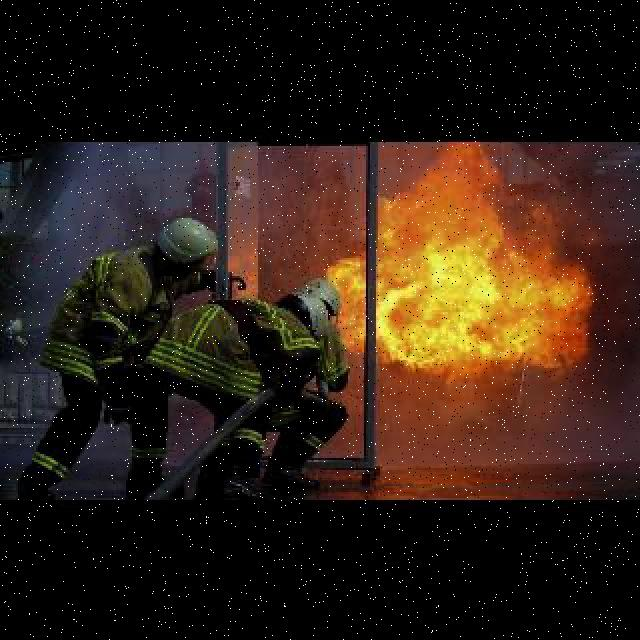fire: (337, 162, 602, 374)
